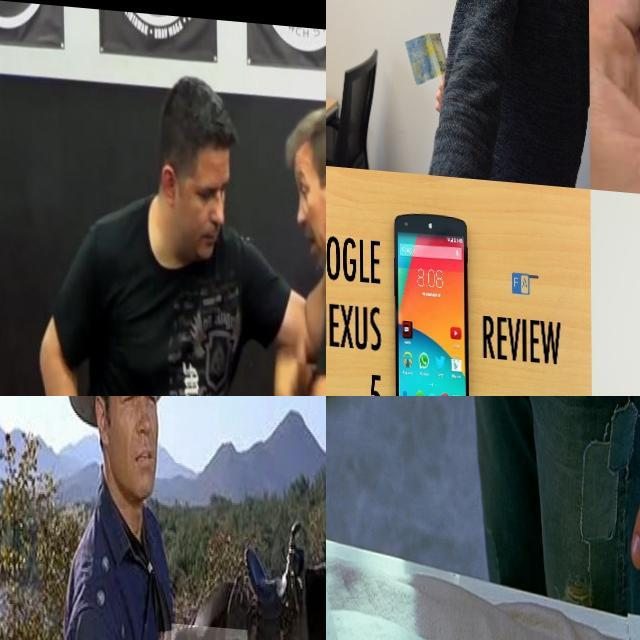gun-knife-thesis - v11 Yolov5 augmented: (326, 396, 398, 640)
